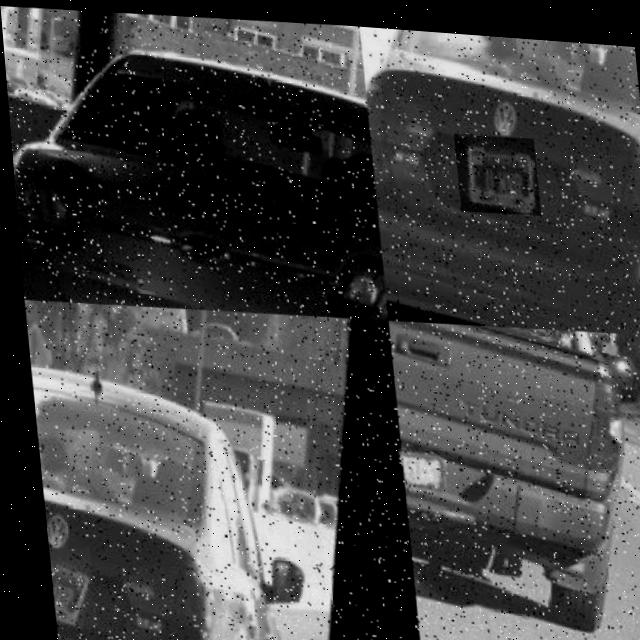LicensePlate: (451, 125, 538, 209), (39, 546, 86, 626), (390, 443, 434, 483)
